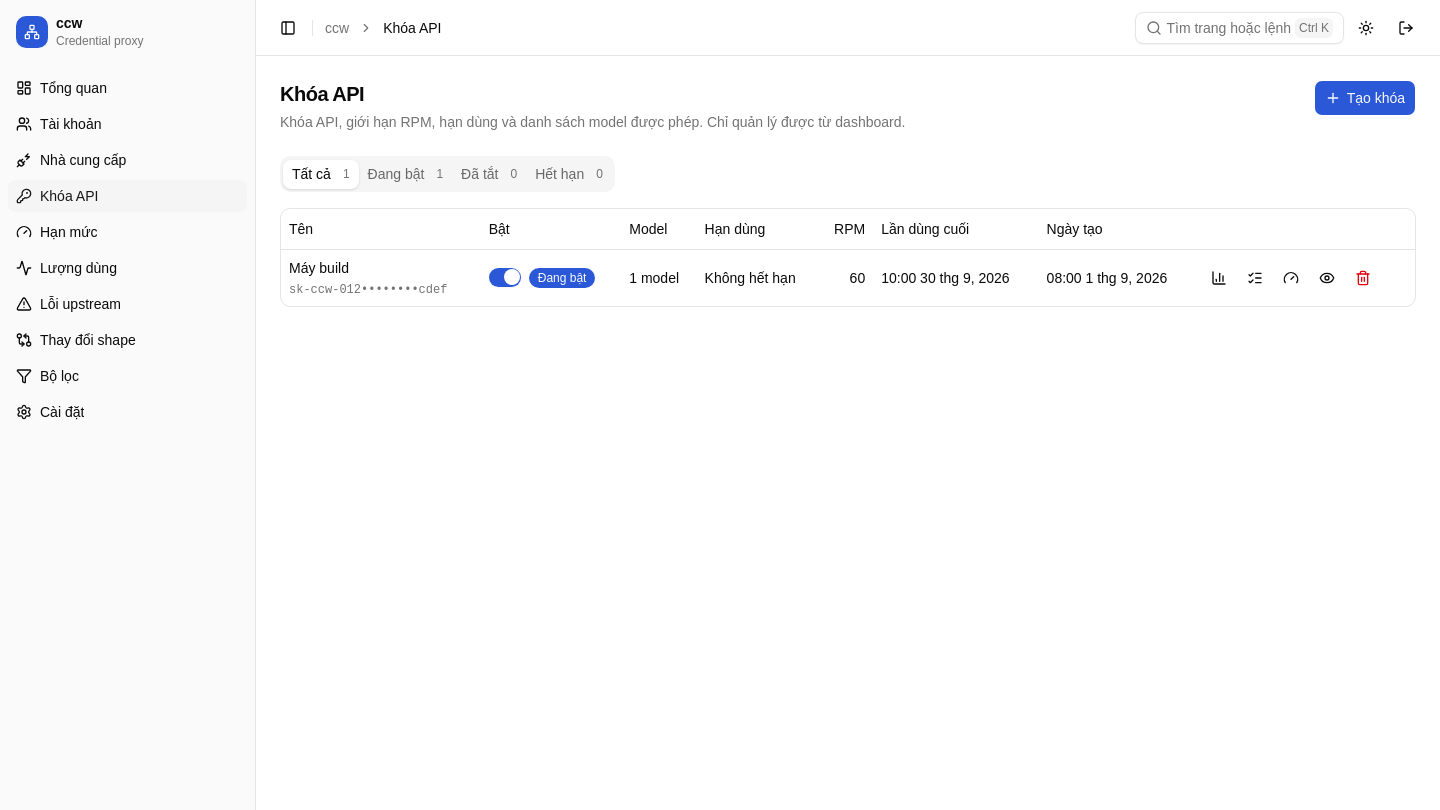
Test: trang khóa API › tạo khóa: hiện một lần, không đóng được trước khi xác nhận, không vào cache
Expected: the heading "Khóa API" is shown, [280,83,364,105]
Click the button "Tạo khóa" at (1365, 98), box [1314,80,1416,116]
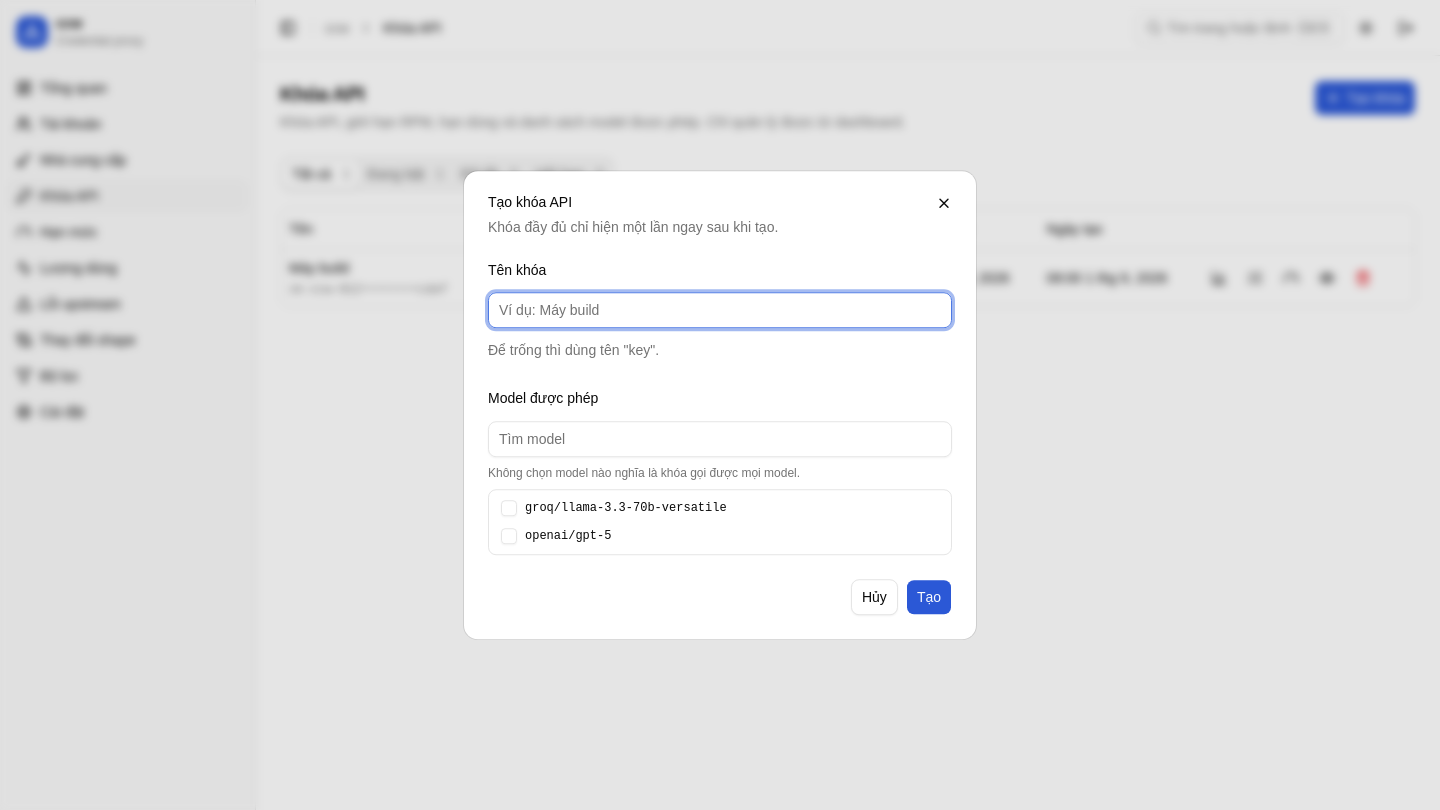
Type "Khóa mới" into the field labelled "Tên khóa" at (720, 310), box [488,292,952,328]
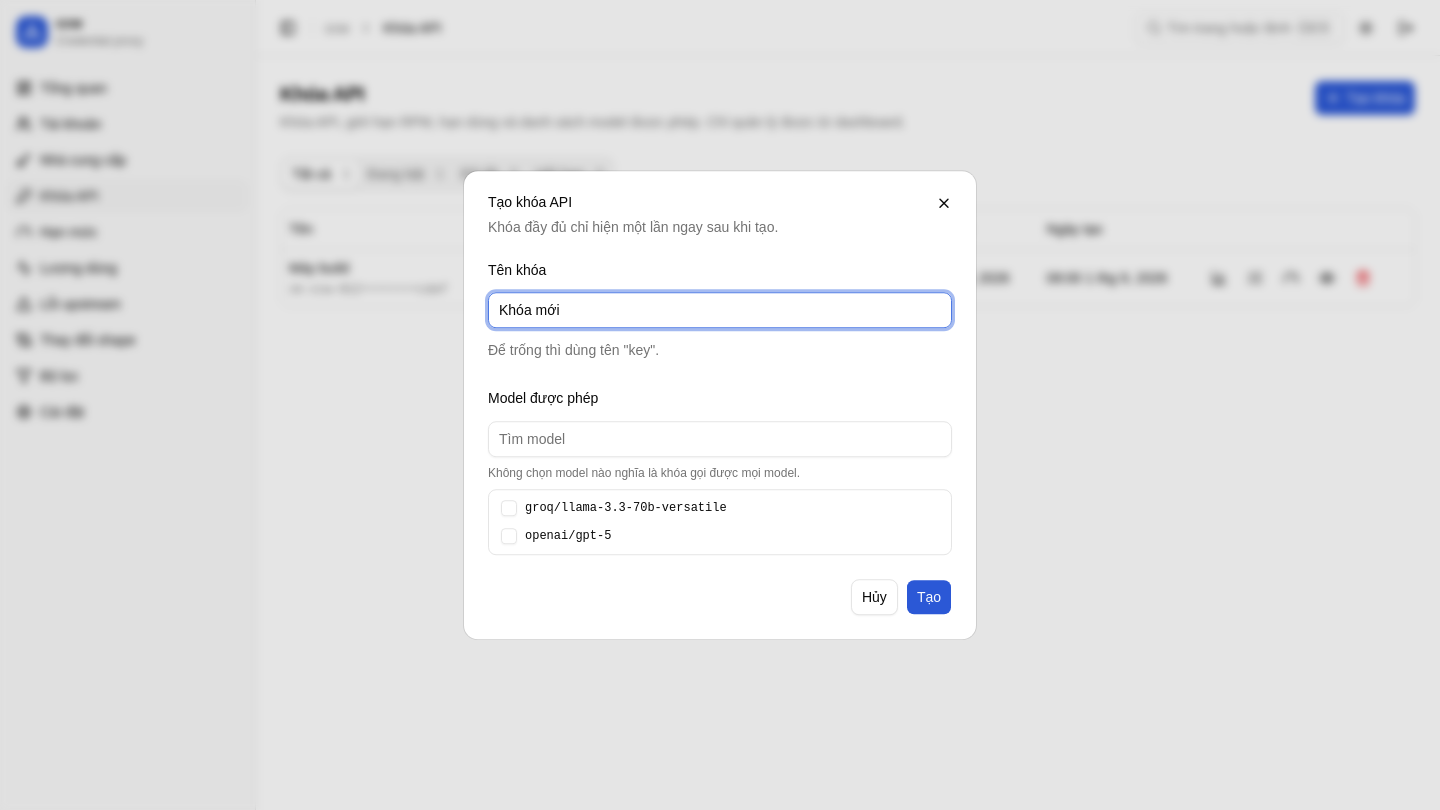
Click the button "Tạo" at (929, 597), box [906,579,952,615]
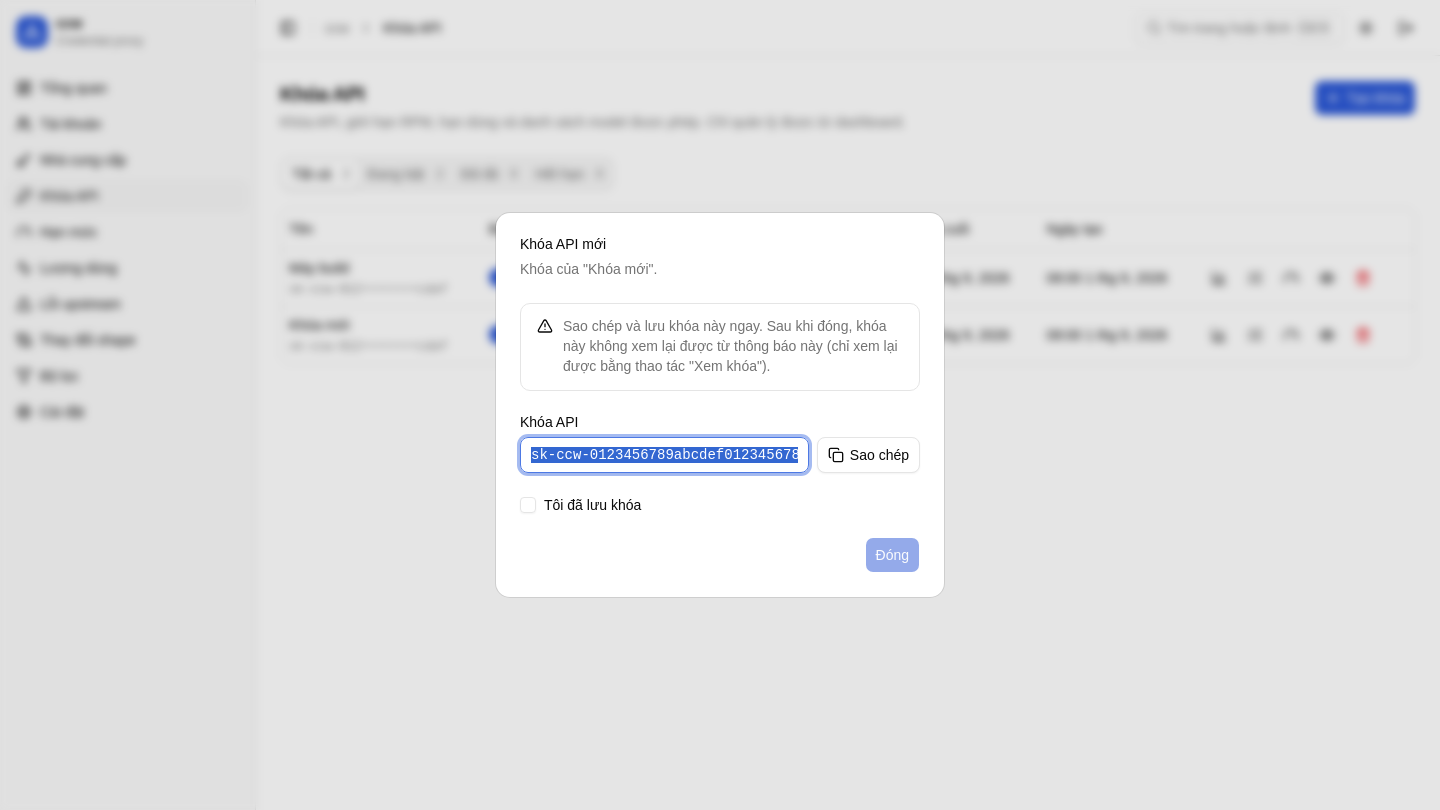
Now the field labelled "Khóa API" holds "sk-ccw-0123456789abcdef0123456789abcdef0123456789abcdef", box [520,437,809,473]
Now the text "không xem lại được" is shown, box [563,318,898,374]
// Escape does not close it, and the button stays disabled until confirmed.
Press Escape
Now the dialog "Khóa API mới" is shown, box [496,213,944,597]
Now the button "Đóng" is disabled, box [864,537,920,573]
Click the checkbox named "đã lưu khóa" at (528, 505), box [520,497,536,513]
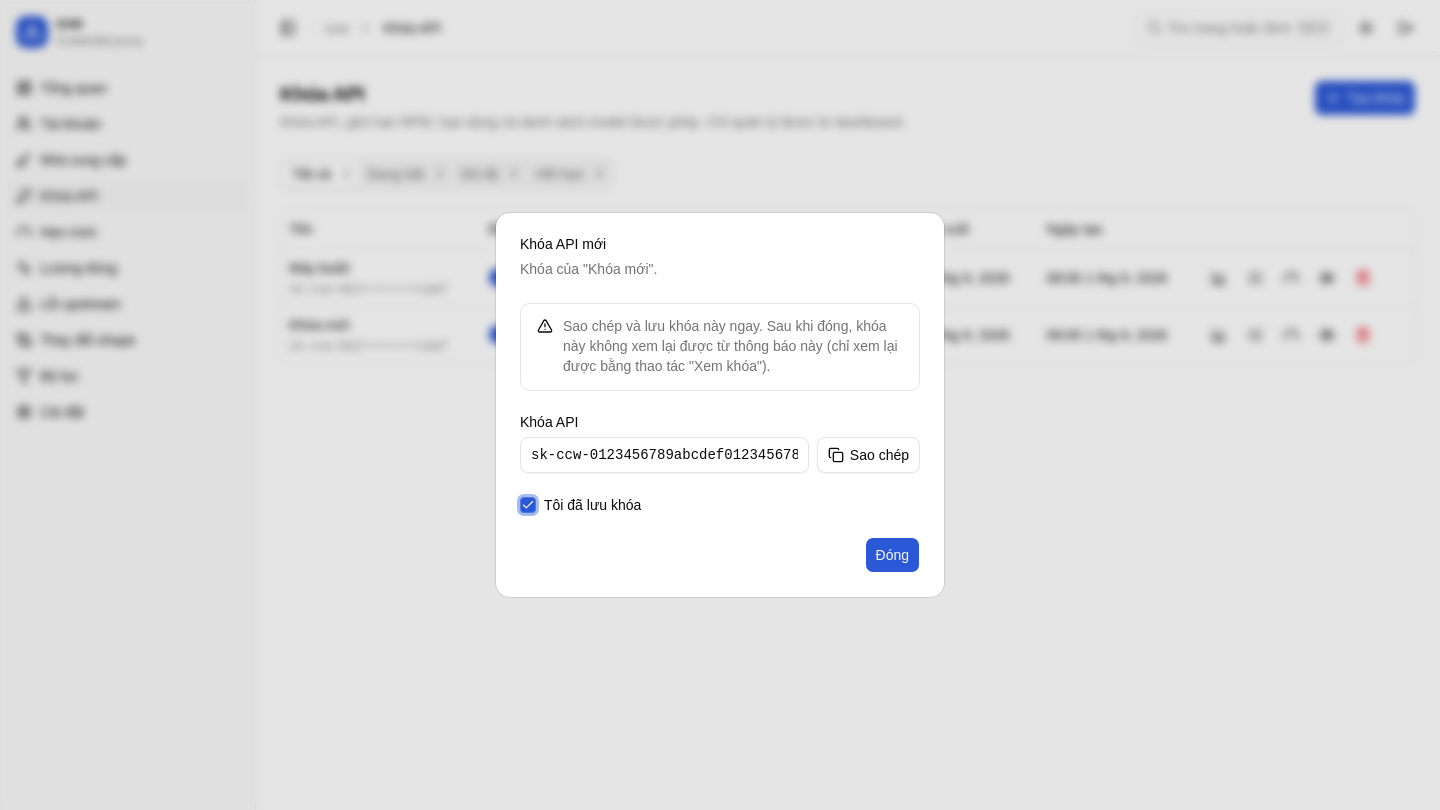
Click the button "Đóng" at (892, 555), box [864,537,920,573]
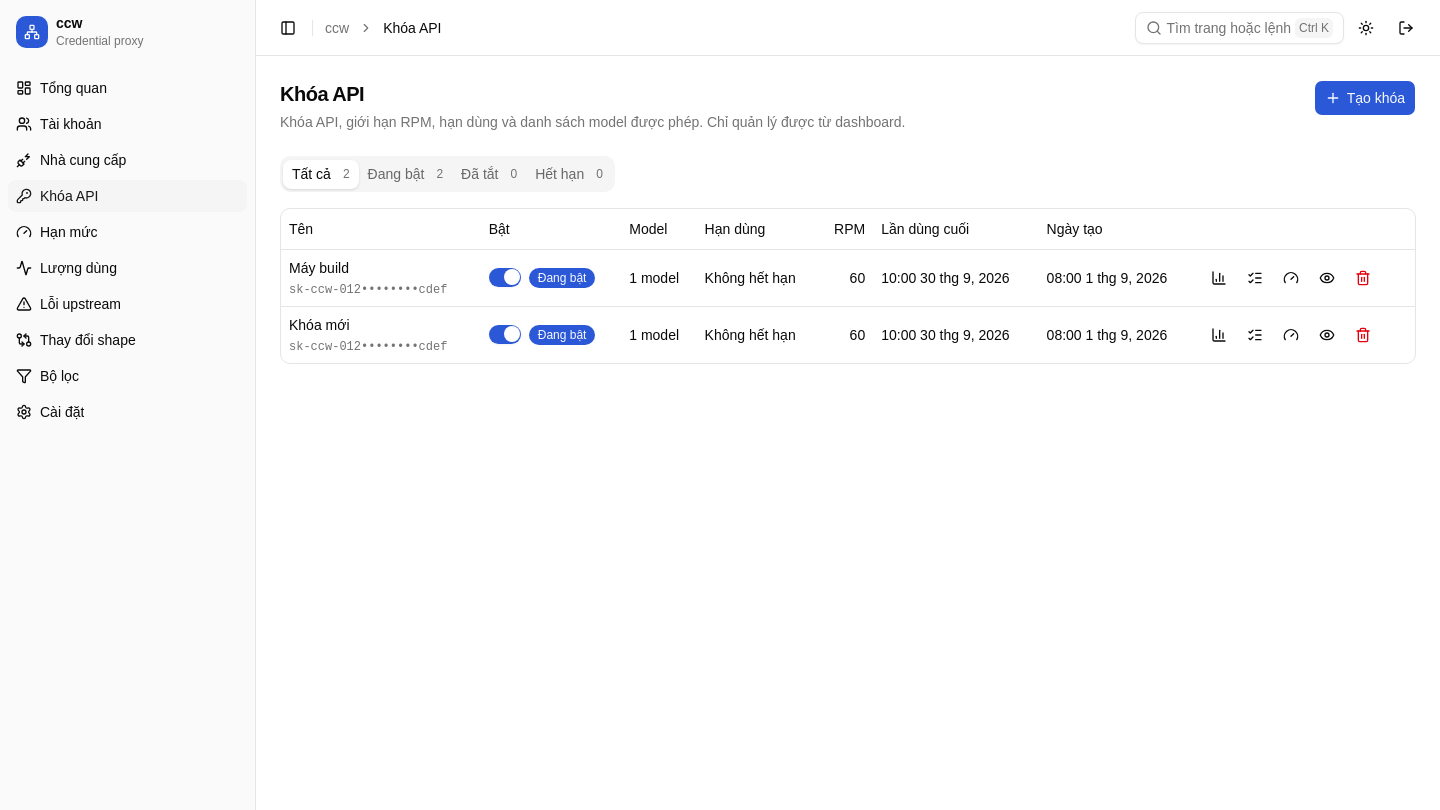
Expected: the text "sk-ccw-0123456789abcdef0123456789abcdef0123456789abcdef" is not shown
Now the heading "Khóa API mới" is gone
